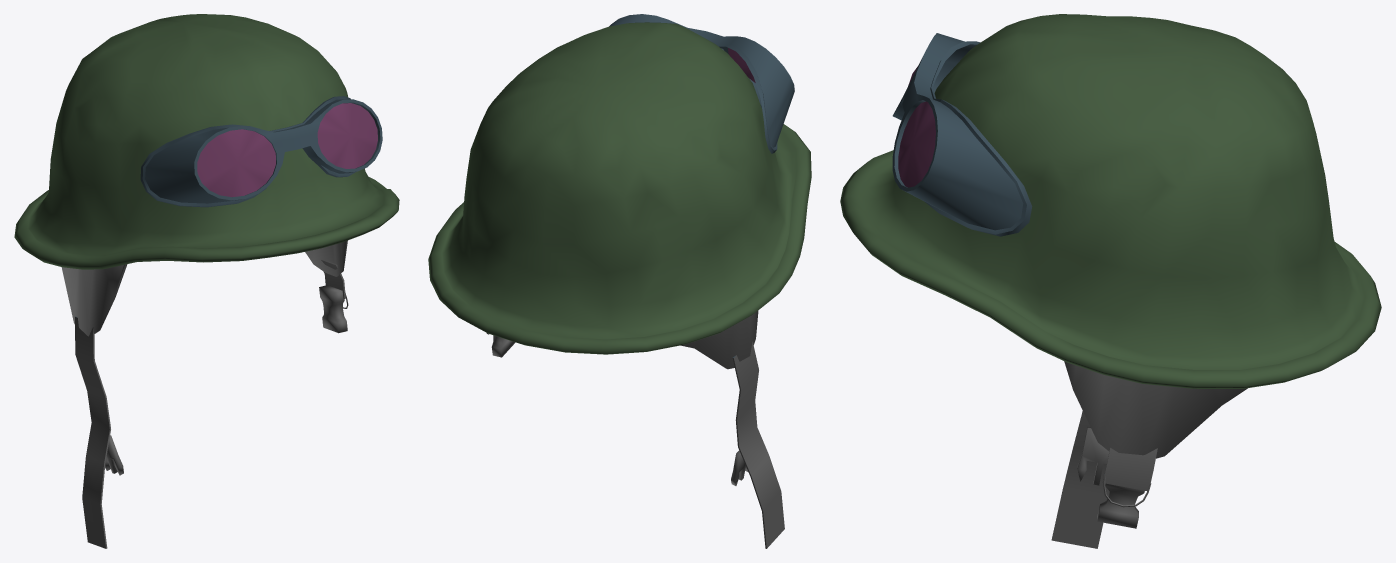
The model's file is Helmet.glb.
The picture shows the model from 3 angles, left to right: view 1: azimuth 30°, elevation 25°; view 2: azimuth 150°, elevation 25°; view 3: azimuth 270°, elevation 25°; orthographic projection. The views are drawn at different scales.
Parts seen in each view (by area): view 1: Object_2; view 2: Object_2; view 3: Object_2.
Boxes of the visible parts, <box> form: Object_2: <box>14,14,399,548</box>; Object_2: <box>428,14,811,548</box>; Object_2: <box>840,14,1381,548</box>.
Bounding box in the file's own units: 301 × 414 × 341.
